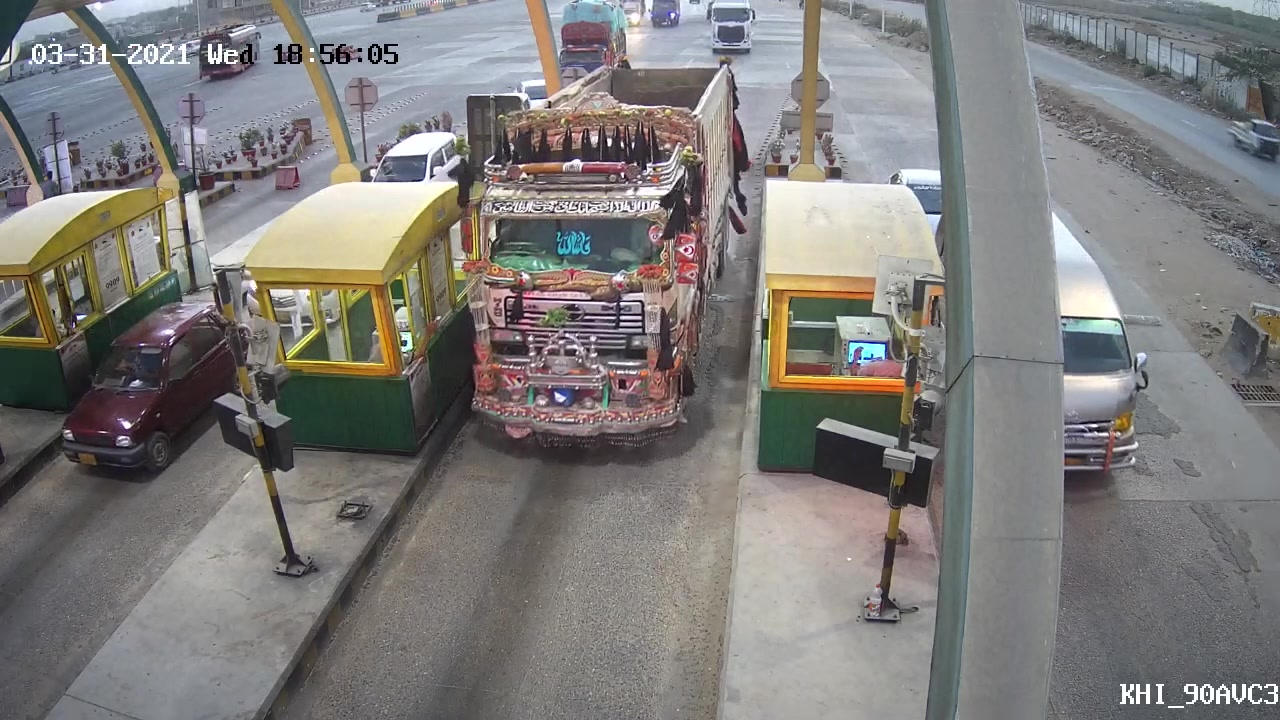F5: (456, 160, 729, 454)
